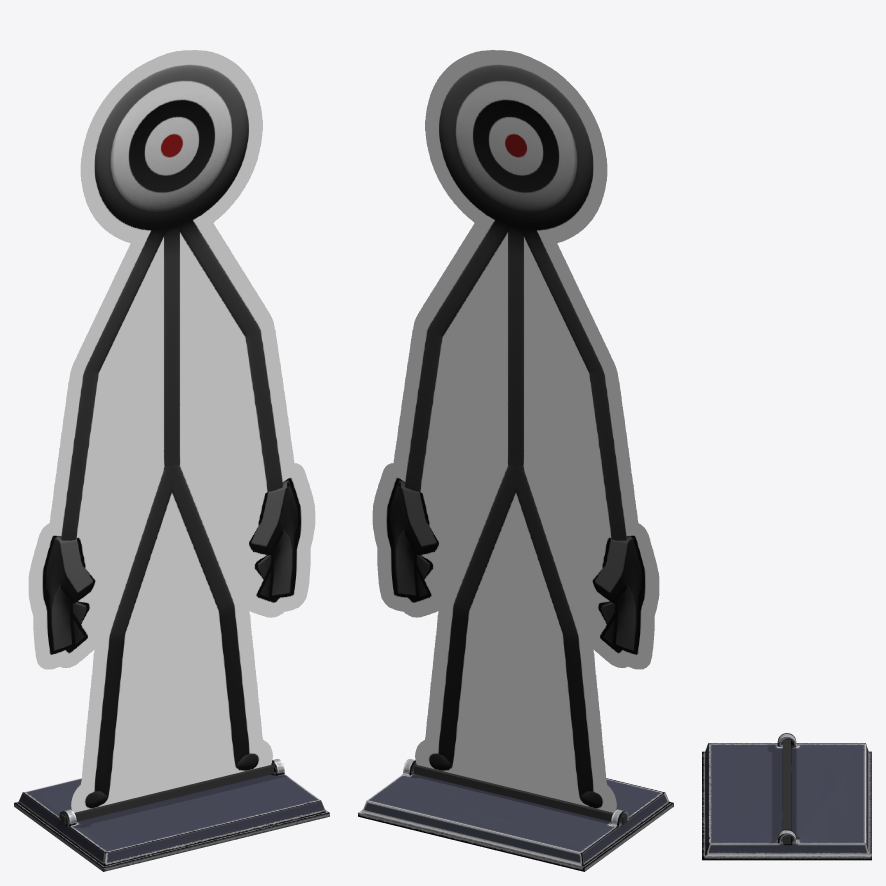
File: Target Bilboard.fbx
The picture shows the model from 3 angles, left to right: view 1: azimuth 30°, elevation 25°; view 2: azimuth 150°, elevation 25°; view 3: azimuth 270°, elevation 25°; orthographic projection. The views are drawn at different scales.
Visible parts, largest first — view 1: Target Bilboard, Base, Hinge; view 2: Target Bilboard, Base, Hinge; view 3: Base, Hinge.
Part boxes in pixels (x1,y1,x2,y2): Target Bilboard: (28, 50, 315, 812); Base: (14, 759, 329, 871); Hinge: (60, 764, 273, 824); Target Bilboard: (372, 50, 659, 812); Base: (358, 759, 673, 871); Hinge: (414, 764, 627, 824); Base: (702, 733, 871, 860); Hinge: (783, 740, 790, 843).
Bounding box in the file's own units: 150 × 354 × 75.29.
3 materials, 2 textured.
